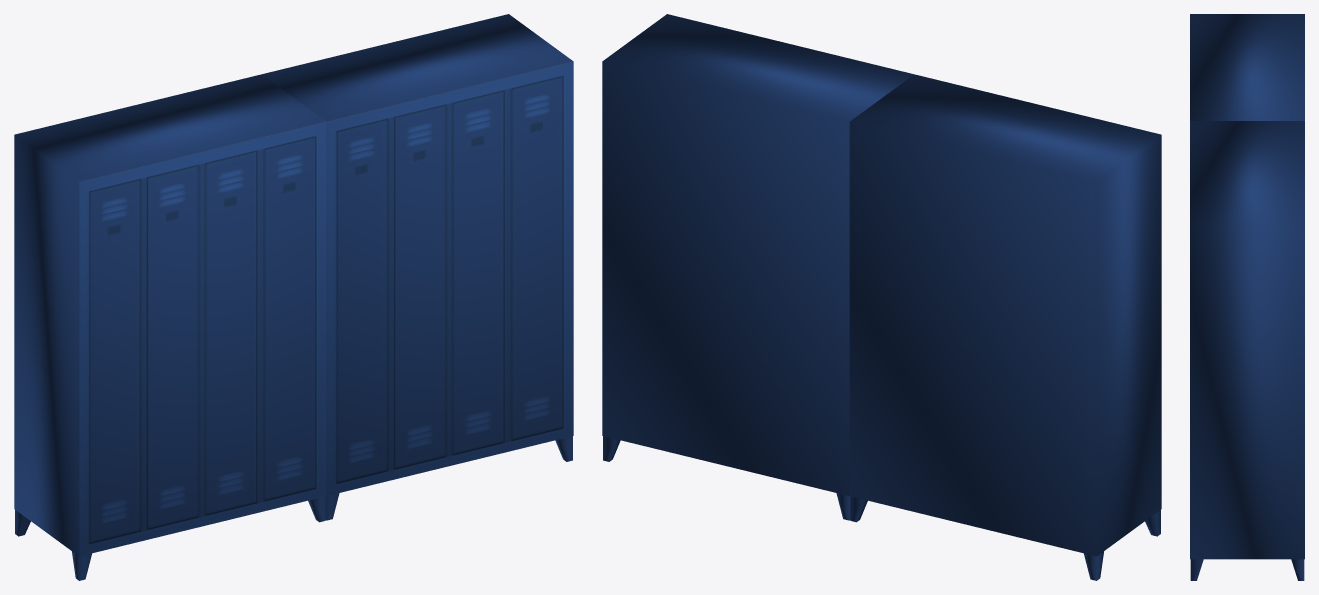
Rendered from 14sports-cupboard.glb.
3 views of the same model, side by side, from view 1: azimuth 30°, elevation 25°; view 2: azimuth 150°, elevation 25°; view 3: azimuth 270°, elevation 25° (orthographic). The views are drawn at different scales.
Parts seen in each view (by area): view 1: room; view 2: room; view 3: room.
Boxes of the visible parts, box(x1,y1,x2,y2) form: room: box(14, 14, 573, 580); room: box(602, 14, 1161, 580); room: box(1190, 14, 1304, 580).
Bounding box in the file's own units: 2.57 × 1.98 × 0.5839.
Materials: 1 (1 with a texture image).
